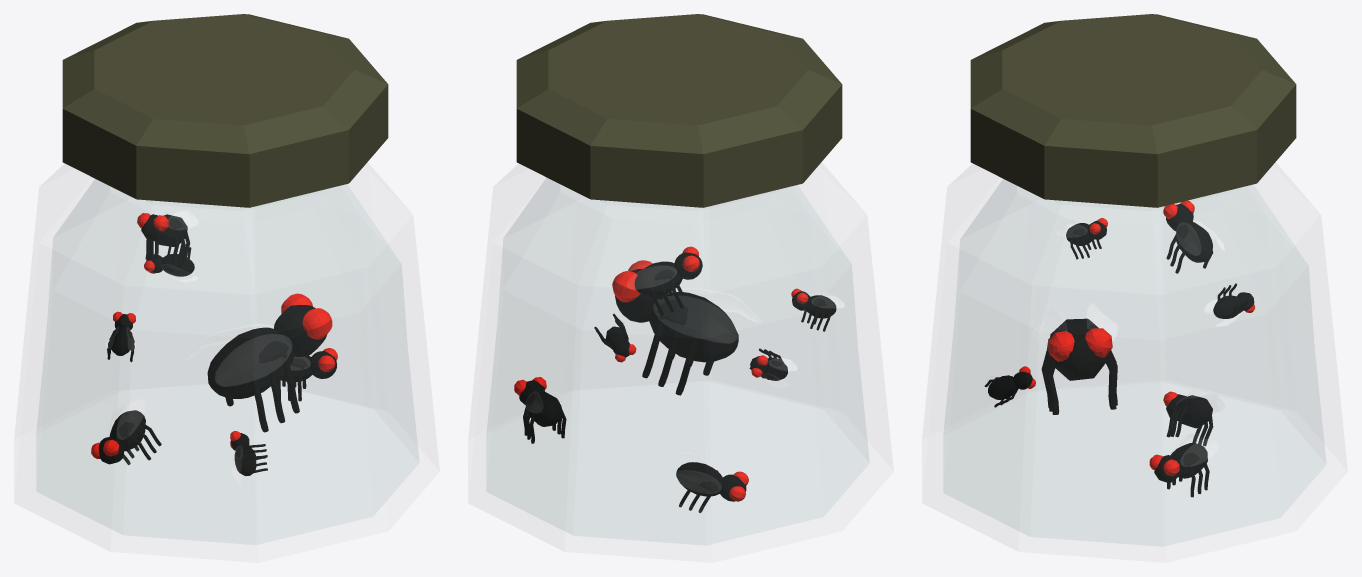
The model's file is JarOfFlys (1).fbx.
The picture shows the model from 3 angles, left to right: view 1: azimuth 30°, elevation 25°; view 2: azimuth 150°, elevation 25°; view 3: azimuth 270°, elevation 25°; orthographic projection.
Visible parts, largest first — view 1: JarOfFlys; view 2: JarOfFlys; view 3: JarOfFlys.
Boxes of the visible parts, <box> form: JarOfFlys: <box>36,14,419,545</box>; JarOfFlys: <box>486,14,869,545</box>; JarOfFlys: <box>943,14,1326,546</box>.
Size of the model in its own units: 115 by 119 by 114.
